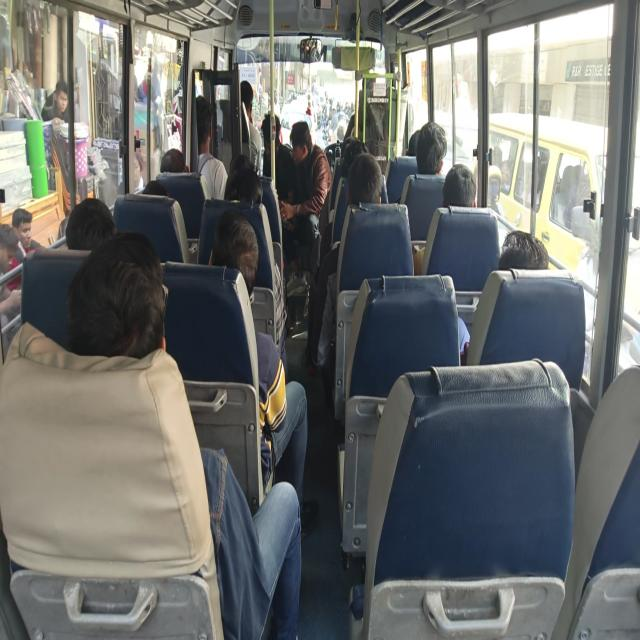person: (89, 247, 172, 364), (52, 193, 126, 271), (195, 204, 253, 282), (346, 164, 396, 228), (441, 165, 491, 217), (152, 143, 202, 194), (504, 235, 556, 278), (219, 175, 267, 209), (186, 94, 216, 148), (333, 130, 369, 174), (416, 122, 446, 174), (130, 157, 159, 200), (228, 80, 258, 116), (262, 109, 284, 148), (352, 66, 378, 95), (406, 133, 418, 153)
